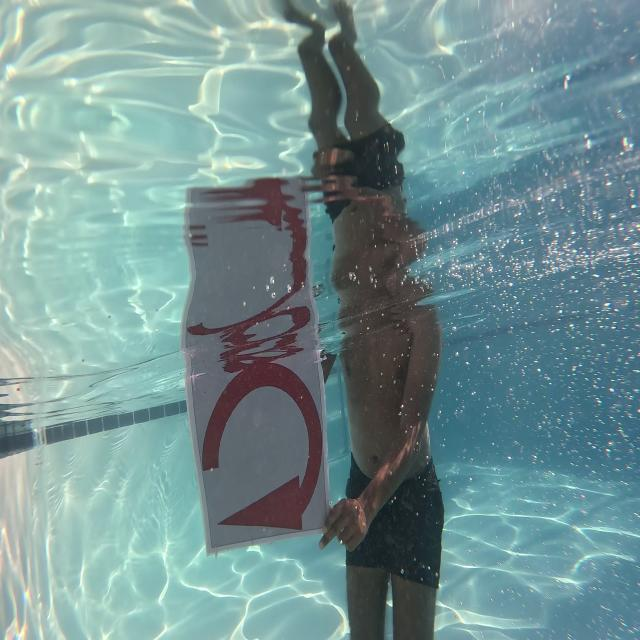red_side: (184, 343, 331, 549)
